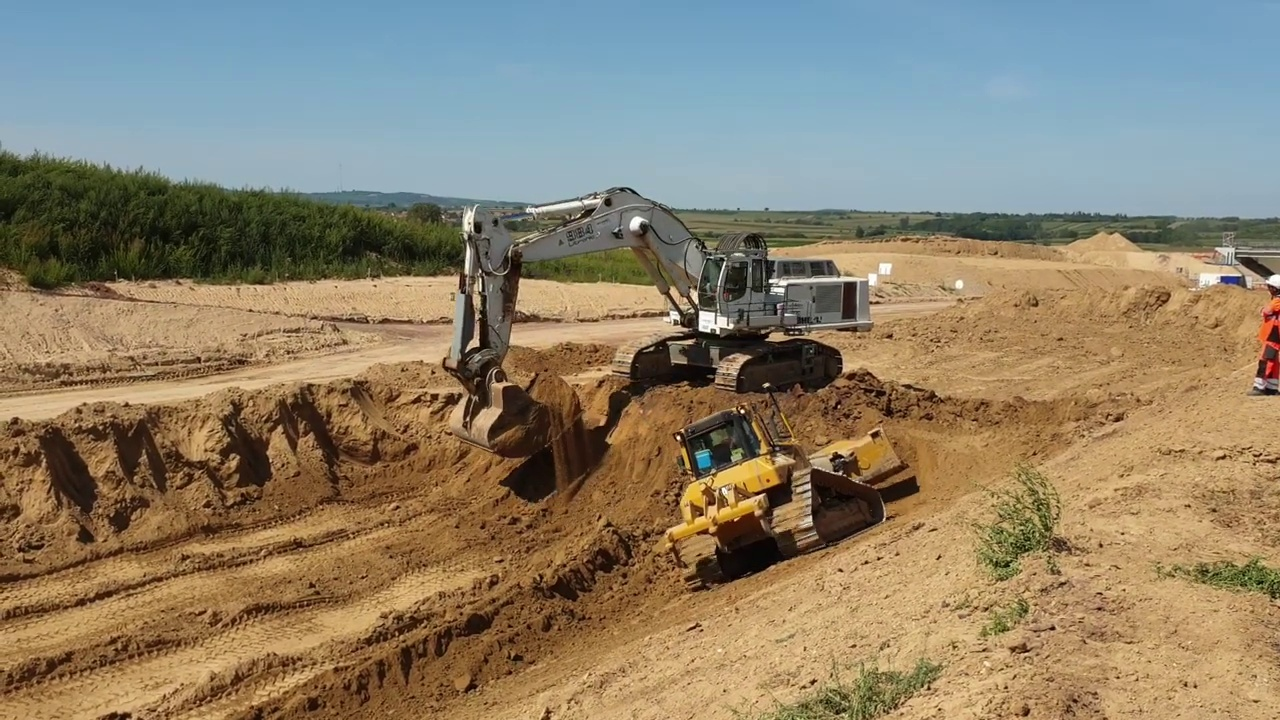bulldozer: (653, 379, 922, 585)
excavator: (435, 182, 876, 461)
worker: (1249, 265, 1280, 397)
